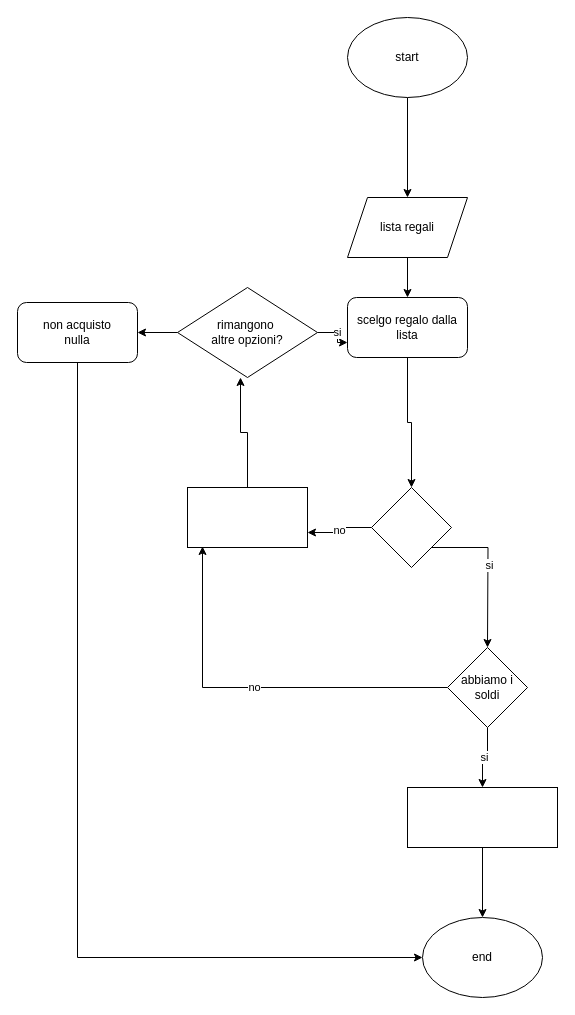
Some shapes in this 575 by 1015 pixel diagram are drawn without their labels. Here are the shapes that lost their labels. From the top down, the centre of each, then its label:
(247,517): scarto regalo
(411,527): arriva in tempo
(482,817): compro regalo
